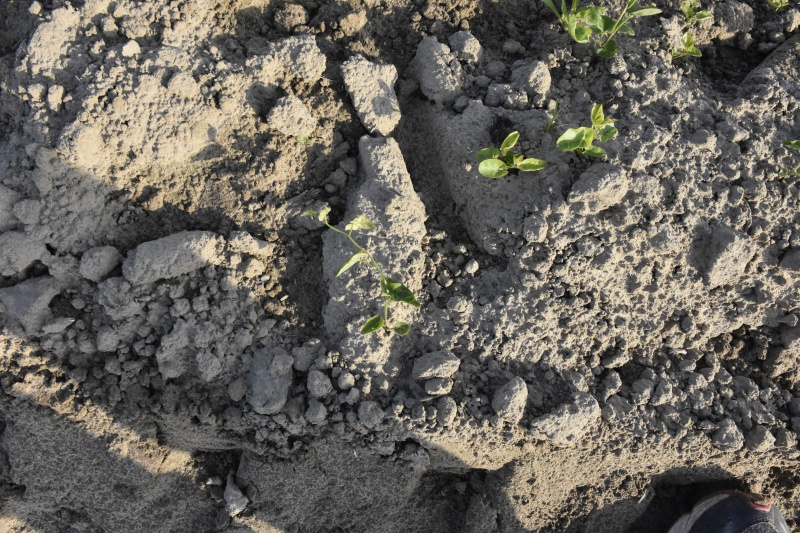field bindweed: (306, 205, 422, 338), (473, 138, 545, 179), (560, 110, 619, 157), (671, 1, 712, 66), (607, 1, 649, 63)
sugar beet: (543, 1, 605, 47)
